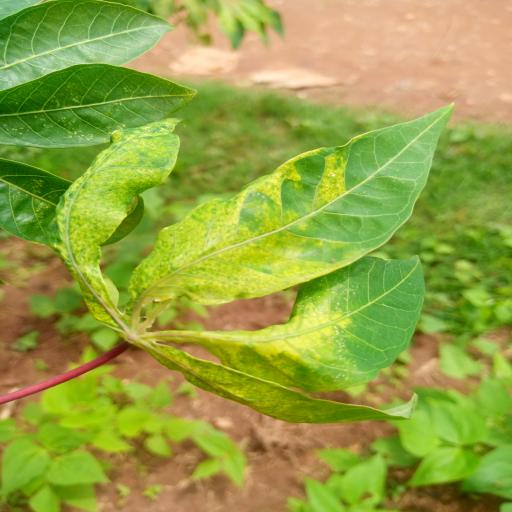Cassava_Mosaic: (46, 104, 484, 429)
